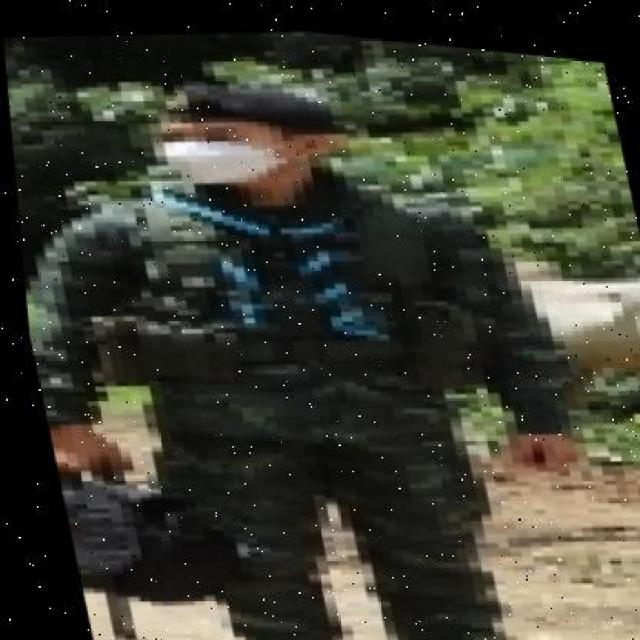MIL_Pax: (15, 29, 640, 640)
